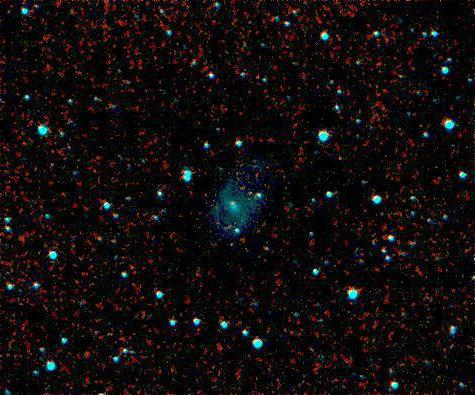star: (231, 179, 261, 209)
